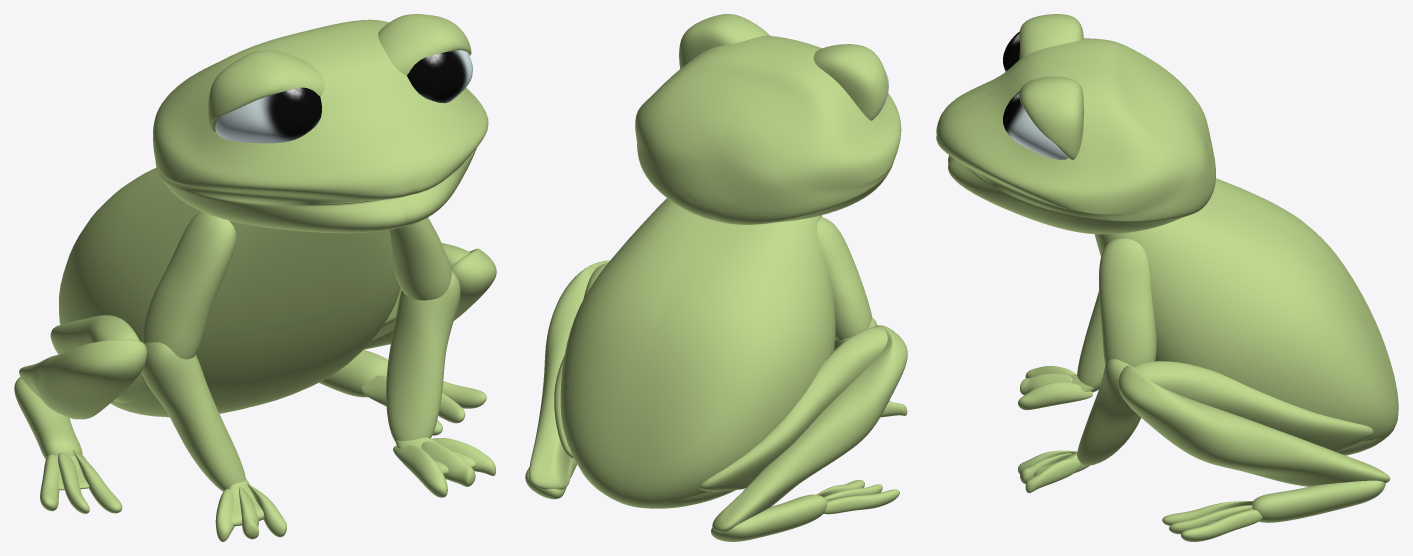
Rendered from frog.glb.
3 views of the same model, side by side, from view 1: azimuth 30°, elevation 25°; view 2: azimuth 150°, elevation 25°; view 3: azimuth 270°, elevation 25° (orthographic). The views are drawn at different scales.
Visible parts, largest first — view 1: frog; view 2: frog; view 3: frog.
Part boxes in pixels (x1,y1,x2,y2): frog: (14,14,496,541); frog: (525,14,907,541); frog: (936,14,1398,541).
Size of the model in its own units: 1.73 by 1.82 by 1.86.
Materials: 2 (2 with a texture image).
